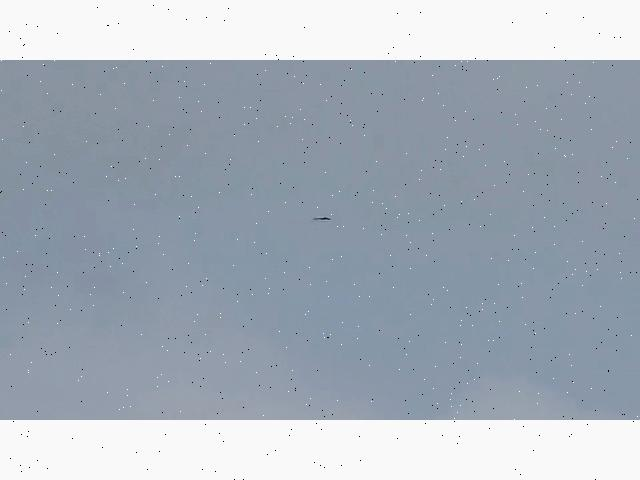Anti-Drone: (312, 216, 332, 222)
